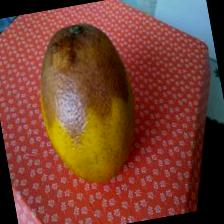Orange Rotten: (20, 11, 152, 195)
